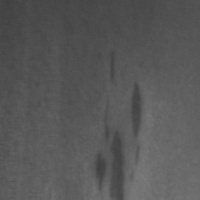inclusion: (90, 94, 139, 200), (123, 75, 149, 143), (104, 43, 124, 91)
